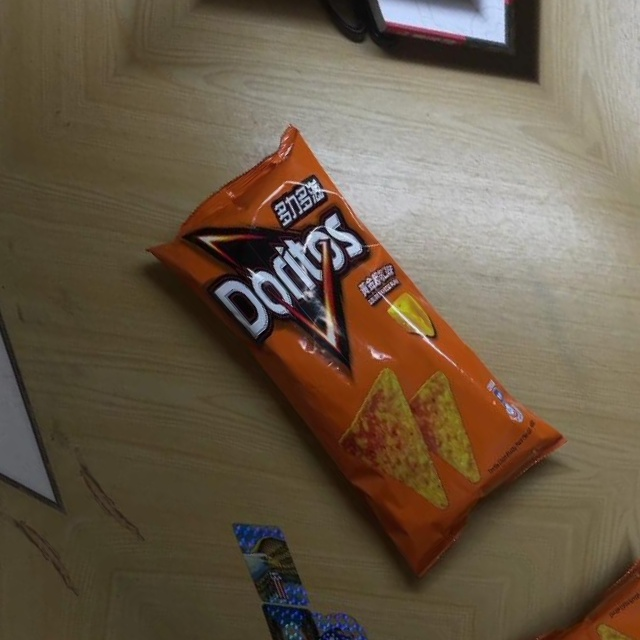Doritos: (140, 114, 573, 575)
